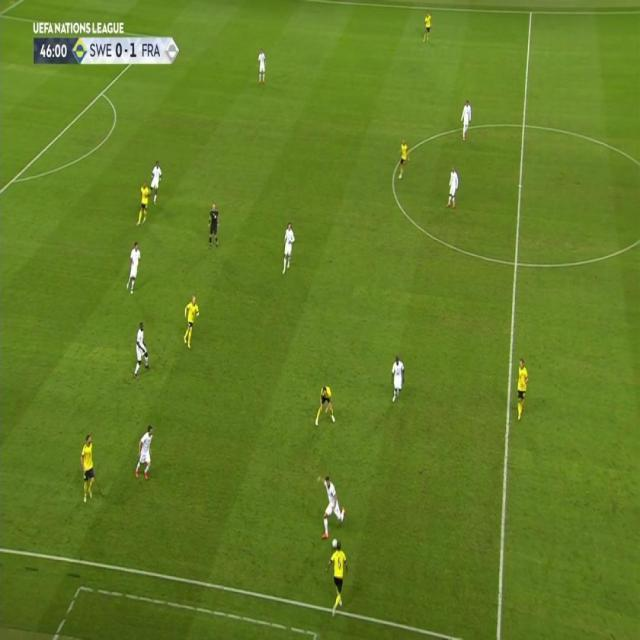ball: (331, 538, 337, 549)
player: (326, 537, 351, 618), (319, 473, 345, 540), (134, 424, 157, 484), (79, 433, 98, 504), (131, 320, 152, 379), (182, 295, 201, 350), (314, 381, 337, 426), (515, 357, 530, 423), (125, 240, 142, 295), (281, 222, 297, 277), (390, 355, 406, 405), (395, 138, 411, 181), (207, 201, 221, 250), (445, 165, 460, 210), (149, 160, 164, 205), (136, 181, 150, 227), (460, 99, 473, 141), (256, 48, 267, 86), (422, 11, 433, 43)
